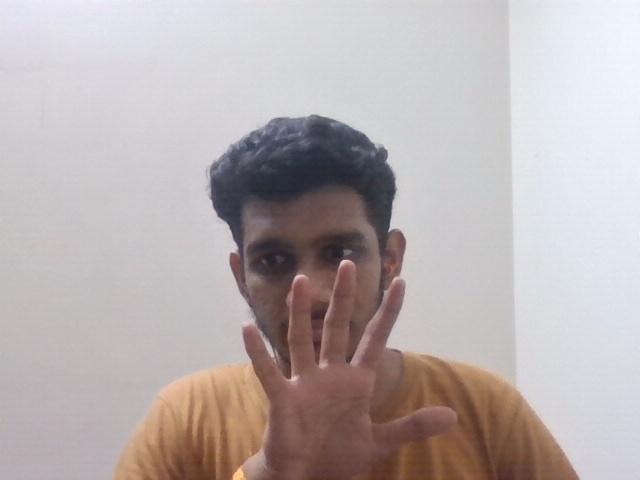hello: (229, 260, 459, 469)
